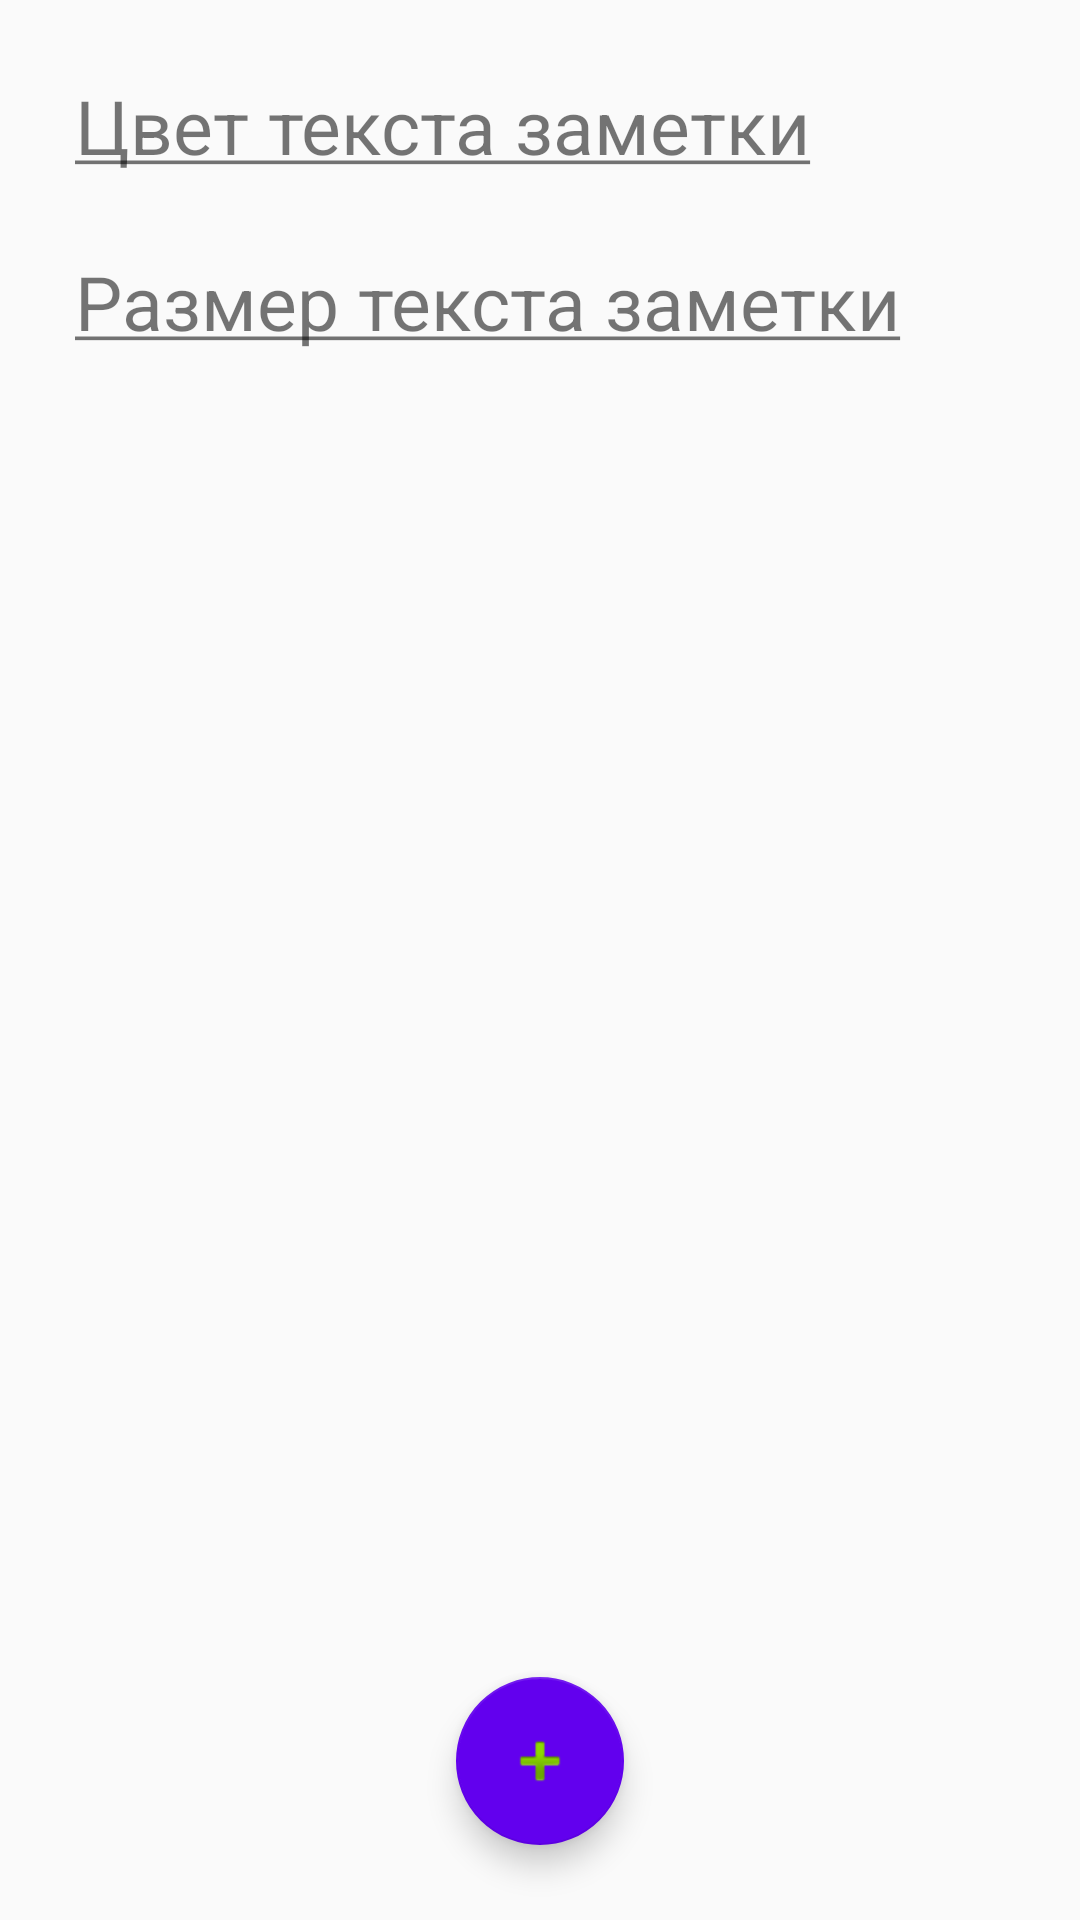

Screen size 1080 × 1920. Icon name, then its center in pixels as (x=x, y=y):
add: (x=540, y=1761)
